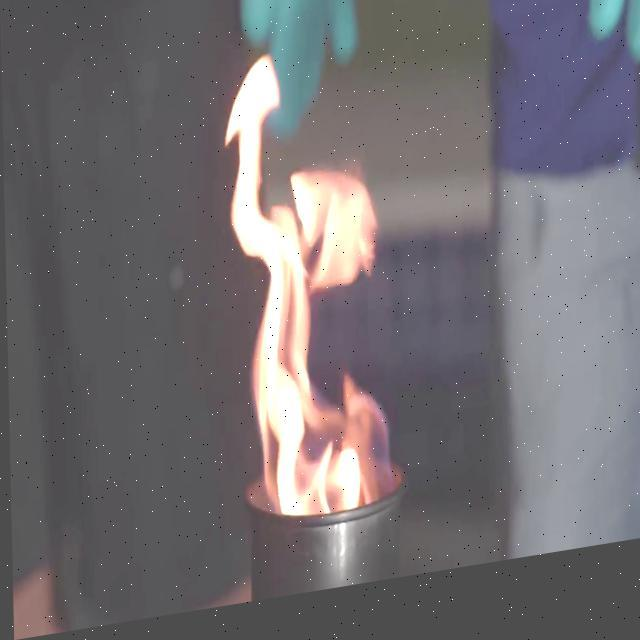Fire: (218, 20, 391, 555)
